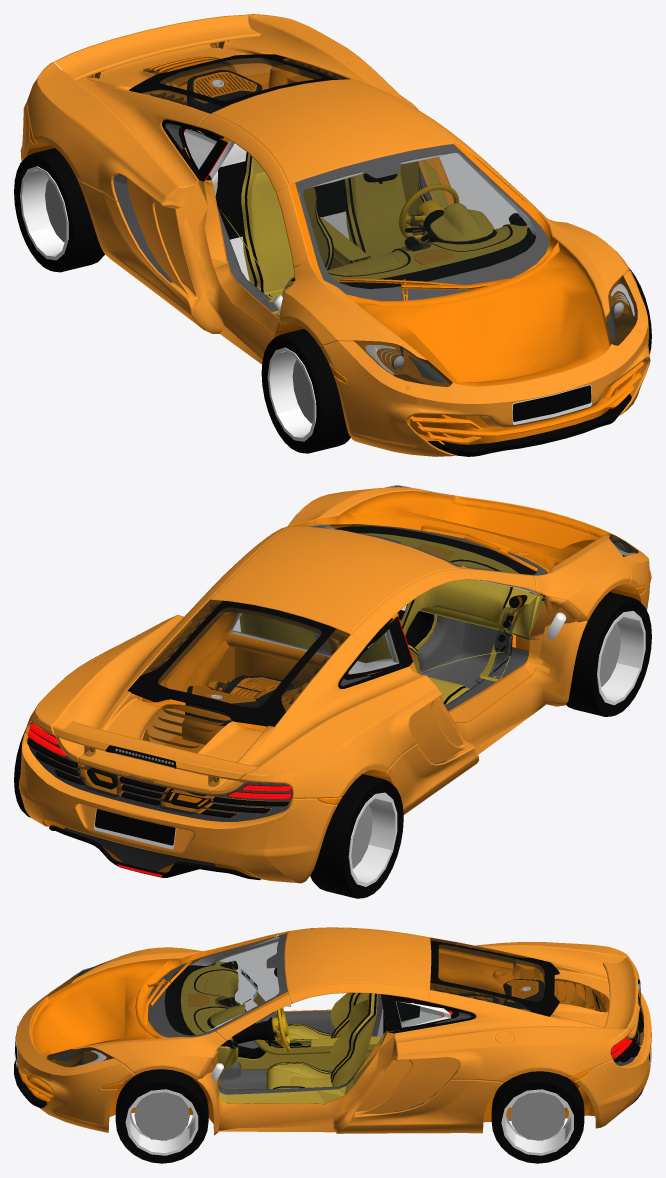
Rendered from mclaren_ready.glb.
3 views of the same model, one above another, from view 1: azimuth 30°, elevation 25°; view 2: azimuth 150°, elevation 25°; view 3: azimuth 270°, elevation 25° (orthographic). The views are drawn at different scales.
Visible parts, largest first — view 1: mc laren-Body, mc laren-Wheel.Ft.R, mc laren-Wheel.Bk.R; view 2: mc laren-Body, mc laren-Wheel.Bk.R, mc laren-Wheel.Ft.R; view 3: mc laren-Body, mc laren-Wheel.Ft.L, mc laren-Wheel.Bk.L.
Boxes of the visible parts, x1,y1,x2,y2 form: mc laren-Body: [20, 14, 650, 456]; mc laren-Wheel.Ft.R: [261, 329, 350, 453]; mc laren-Wheel.Bk.R: [14, 148, 104, 272]; mc laren-Body: [18, 485, 651, 883]; mc laren-Wheel.Bk.R: [310, 774, 403, 898]; mc laren-Wheel.Ft.R: [566, 592, 651, 716]; mc laren-Body: [14, 927, 651, 1135]; mc laren-Wheel.Ft.L: [115, 1069, 208, 1163]; mc laren-Wheel.Bk.L: [491, 1071, 584, 1163].
Bounding box in the file's own units: 3.26 × 1.92 × 7.2.
